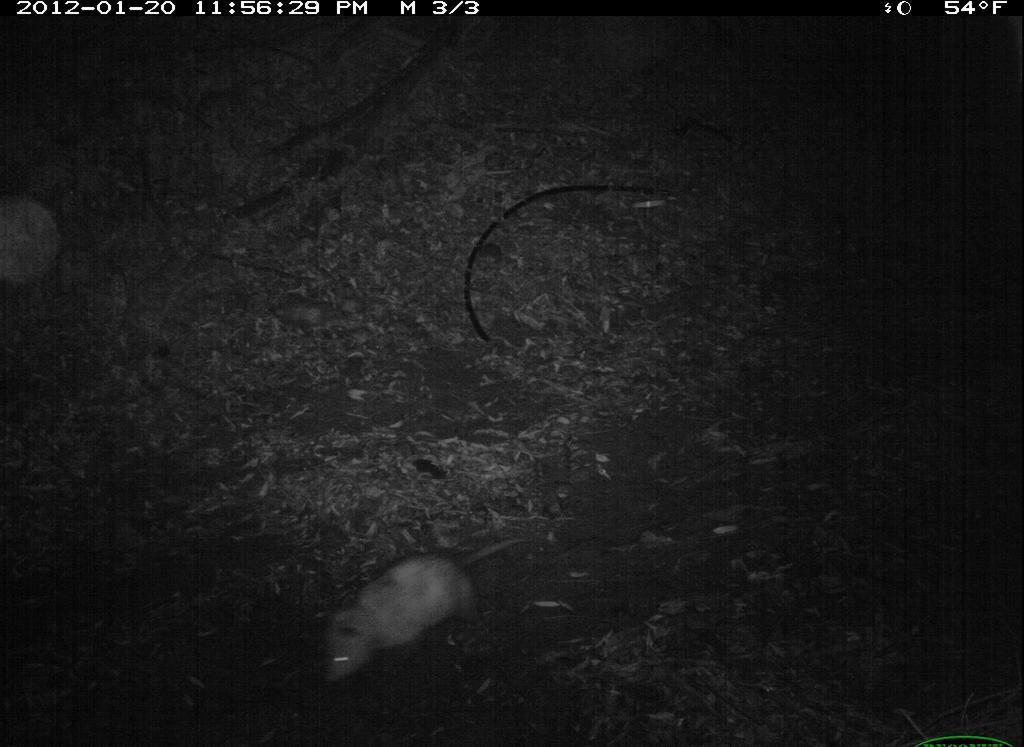opossum: (310, 516, 536, 694)
